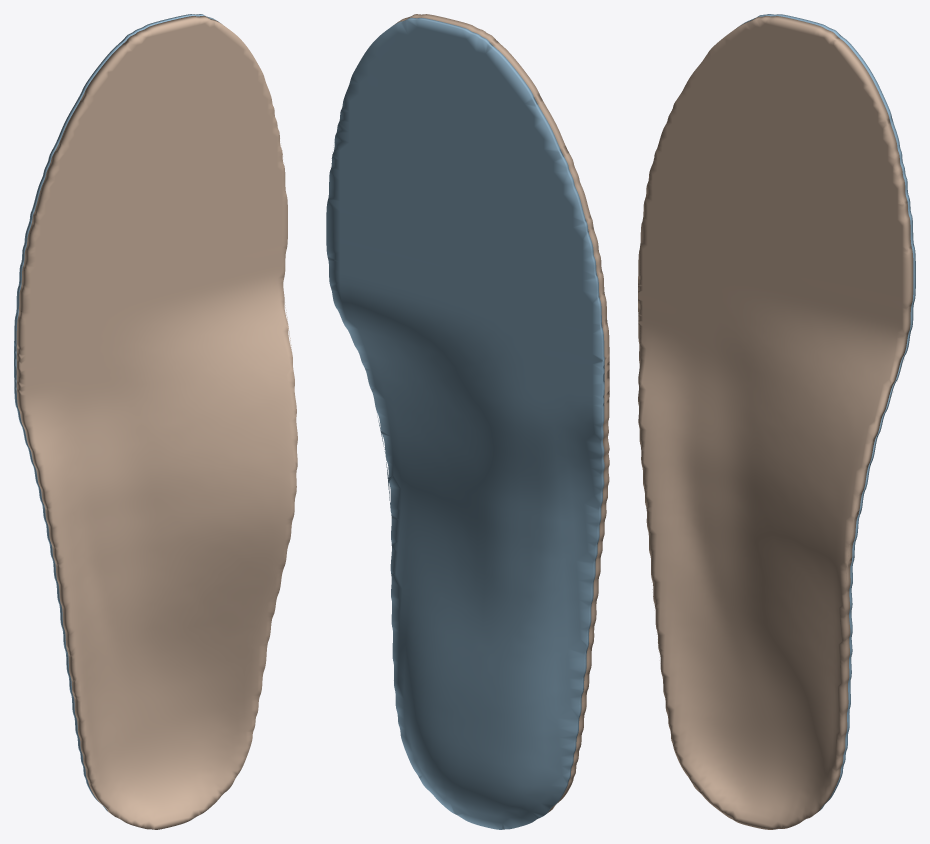
File: PAIR-TOP-COVER_T3_addon.glb
3 views of the same model, side by side, from view 1: azimuth 30°, elevation 25°; view 2: azimuth 150°, elevation 25°; view 3: azimuth 330°, elevation 25° (orthographic). The views are drawn at different scales.
Parts seen in each view (by area): view 1: geometry_0; view 2: geometry_0; view 3: geometry_0.
Boxes of the visible parts, left/top/right/bottom form: geometry_0: left=14, top=14, right=297, bottom=829; geometry_0: left=326, top=14, right=609, bottom=829; geometry_0: left=638, top=14, right=915, bottom=829.
Bounding box in the file's own units: 99.51 × 280 × 26.4.
